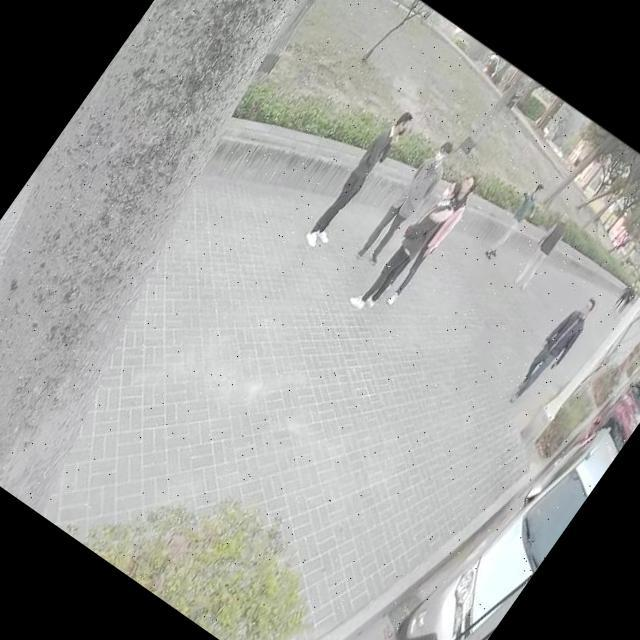person: (342, 162, 473, 328), (363, 160, 483, 314), (304, 102, 418, 250), (352, 132, 460, 272), (502, 288, 603, 414), (476, 171, 556, 269), (503, 204, 579, 299)
